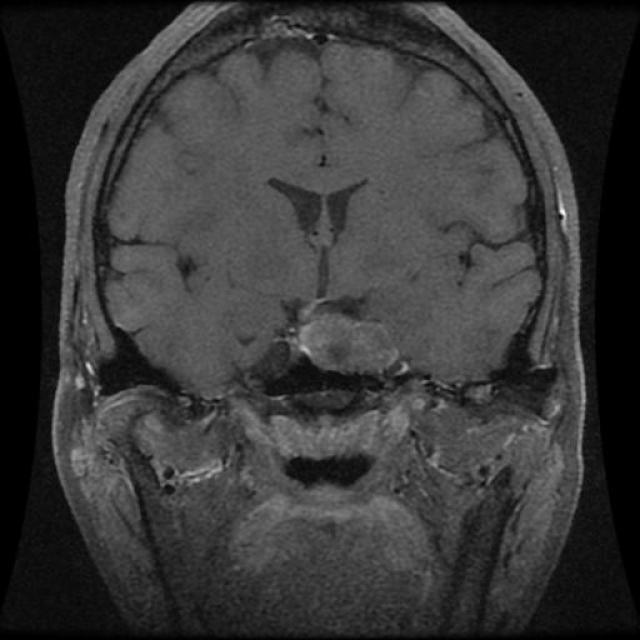pituitary: (266, 278, 420, 392)
